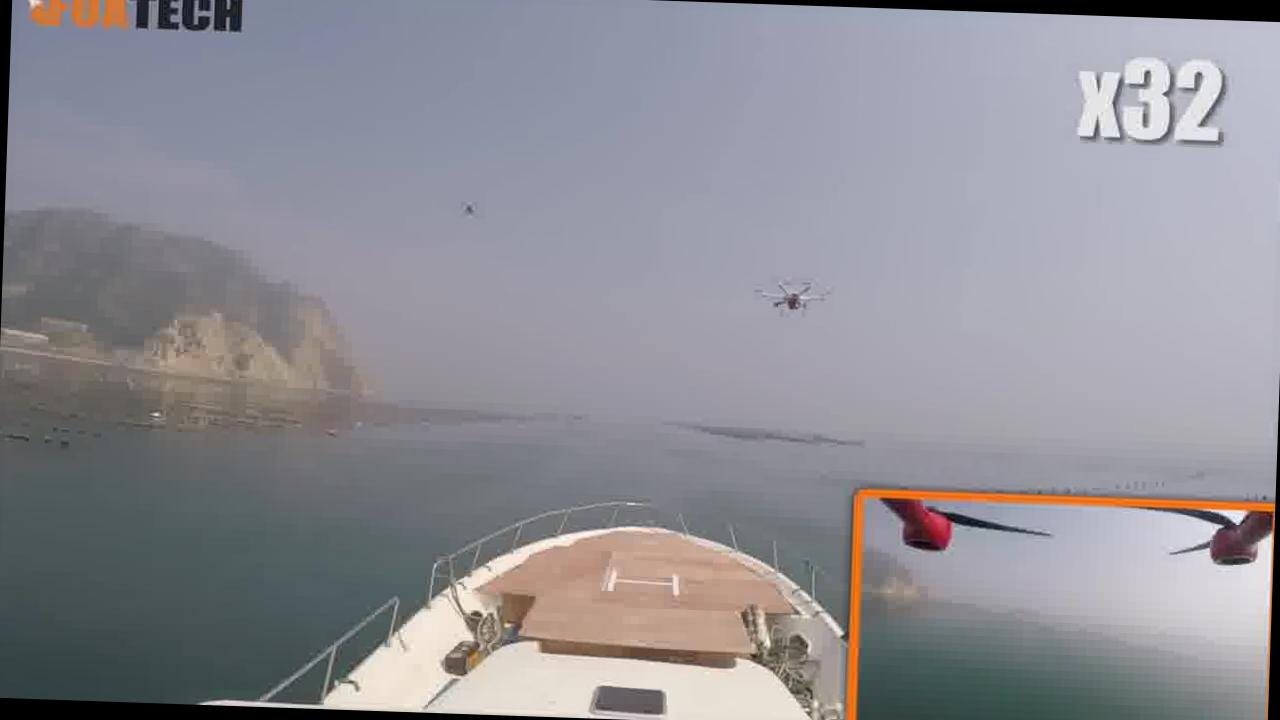drone: (736, 260, 854, 346)
